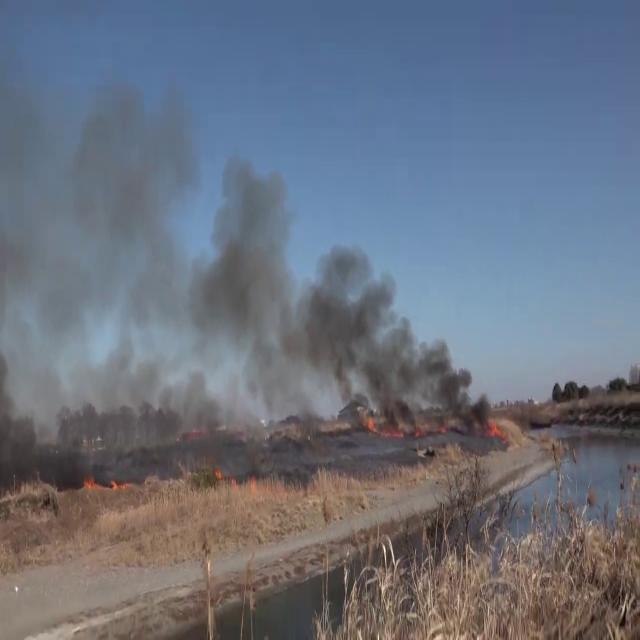Fire: (488, 416, 509, 446)
Smoke: (0, 89, 482, 443)
